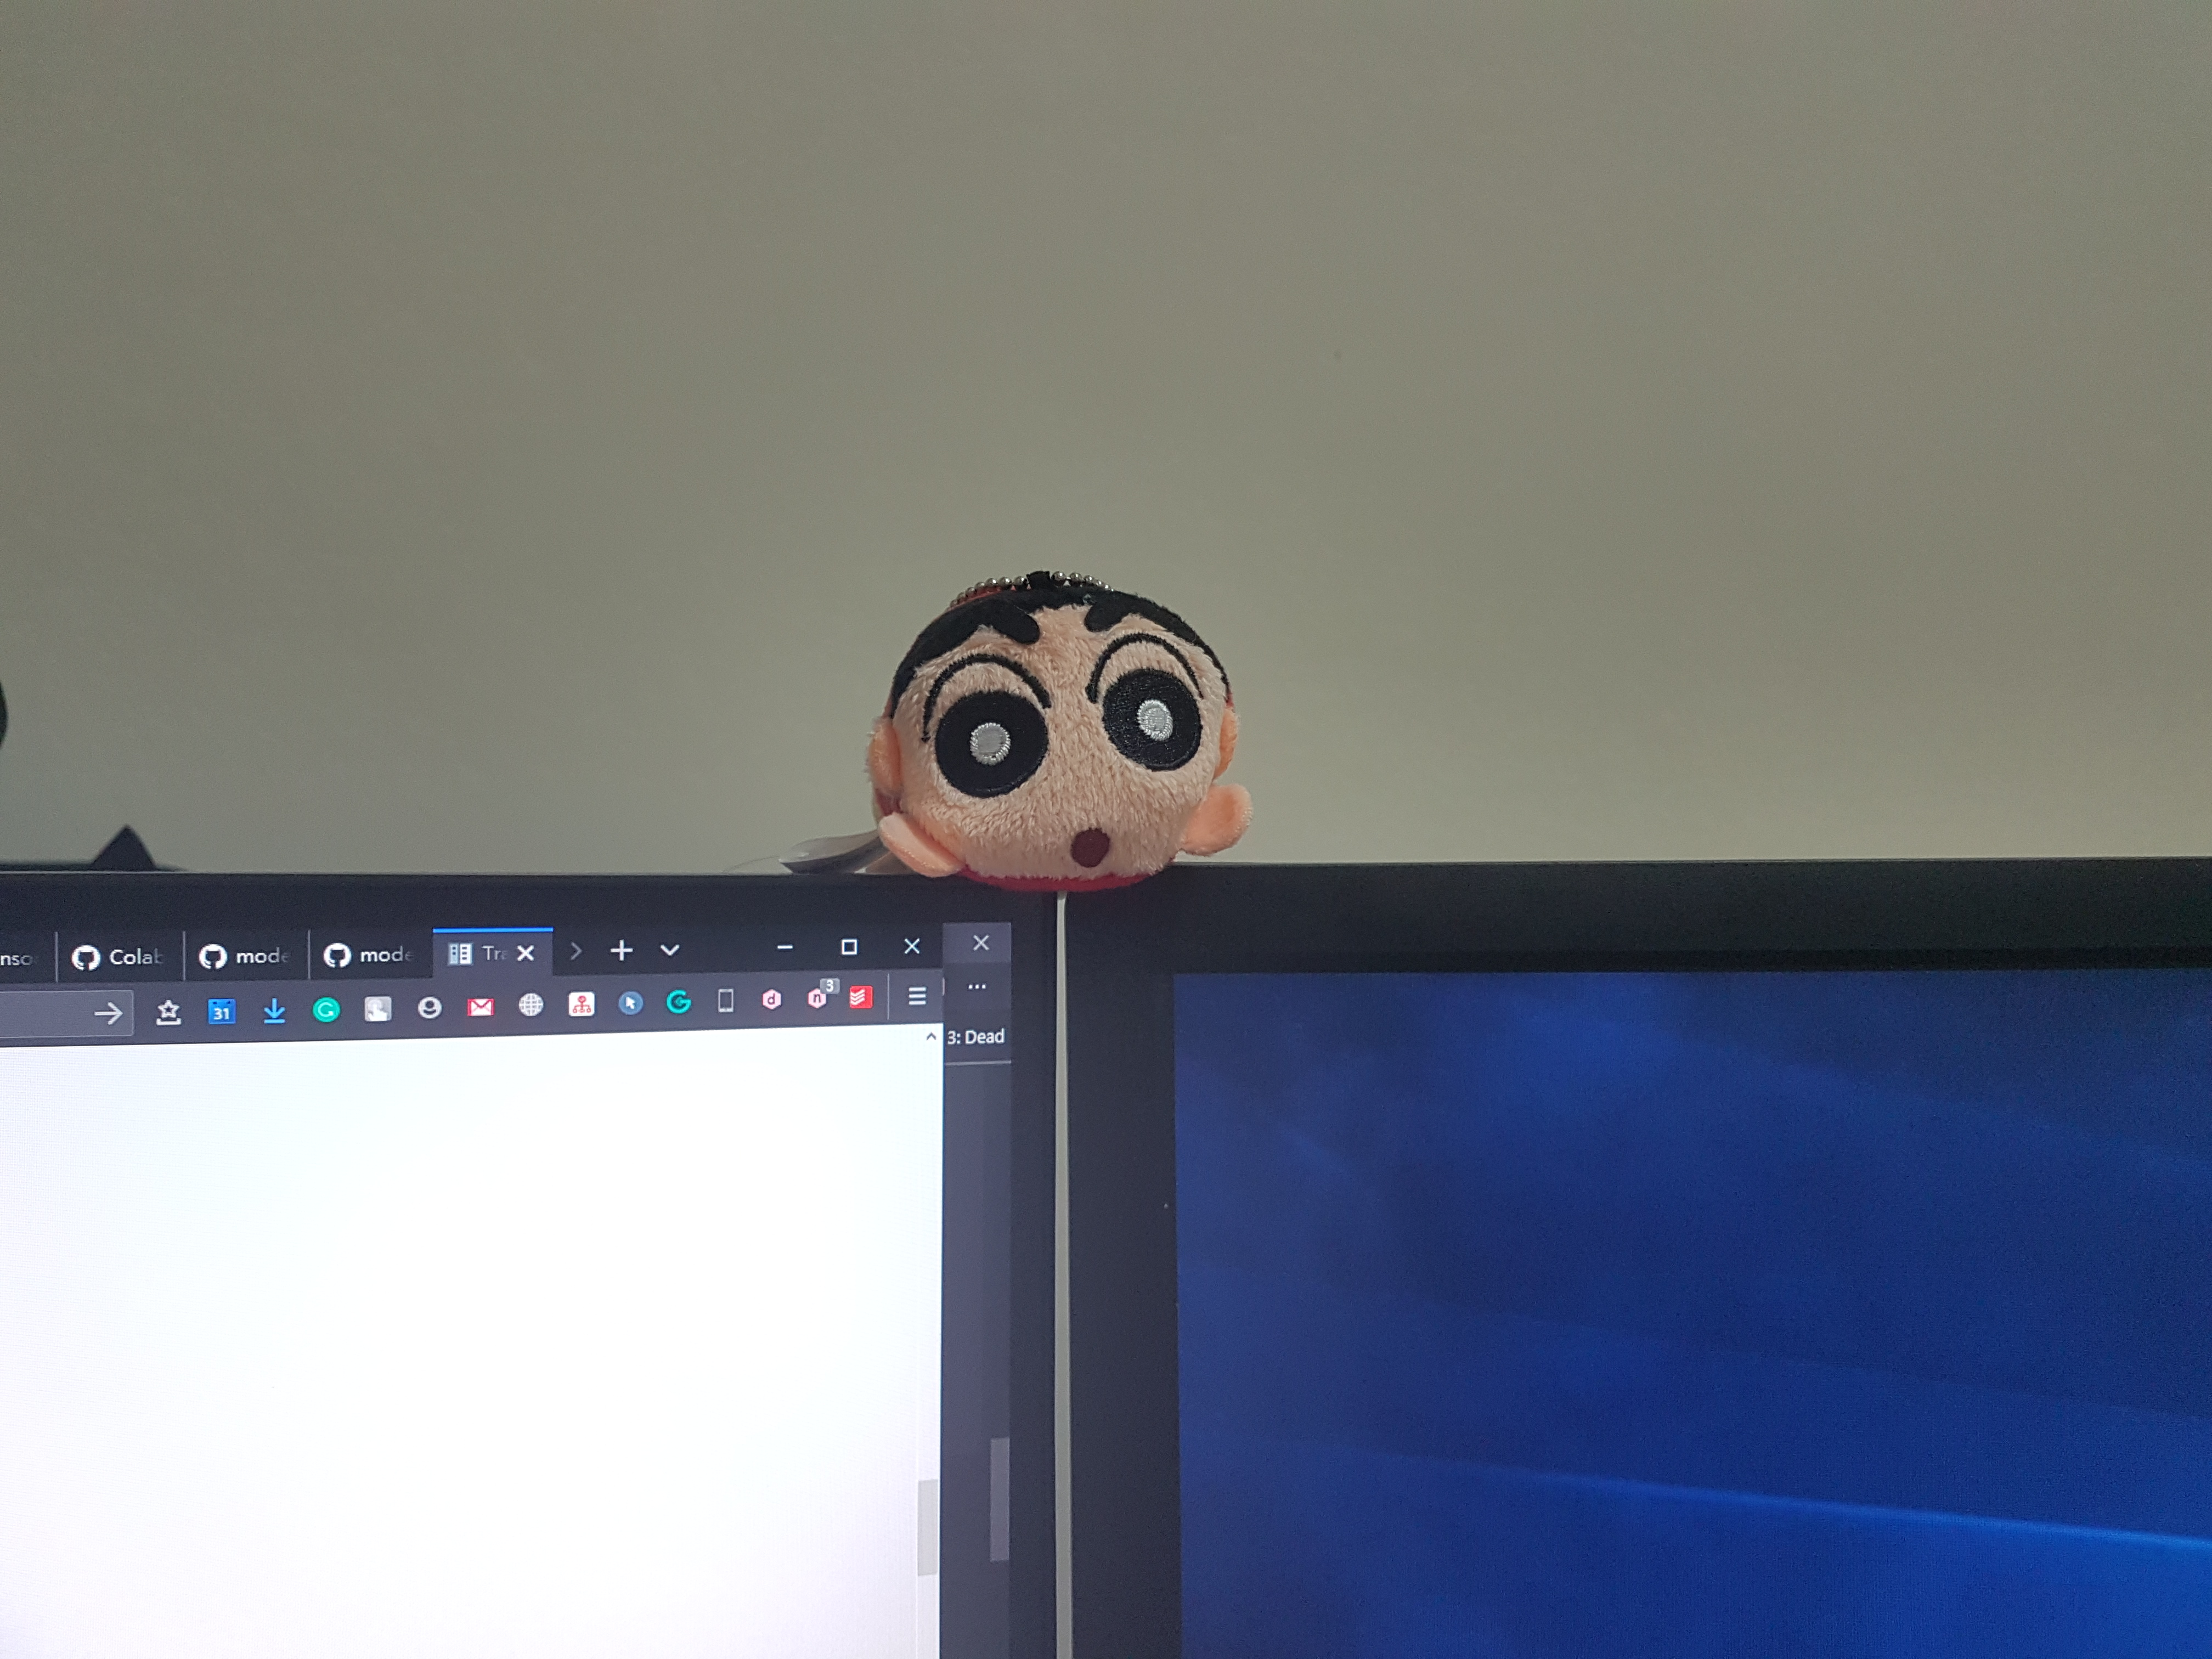stuffed toy: (867, 575, 1245, 897)
